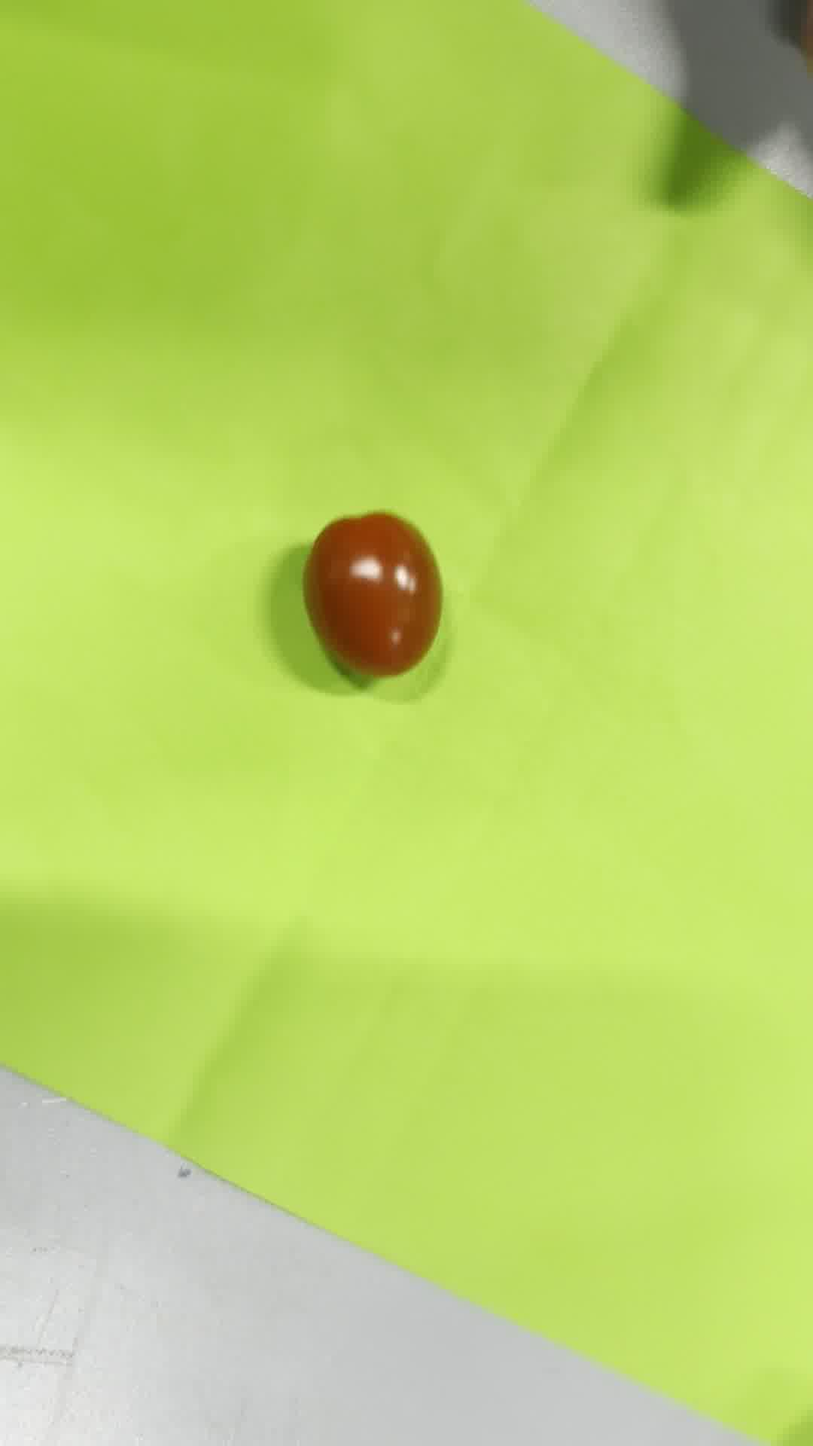red_cherry_tomato: (303, 512, 442, 678)
